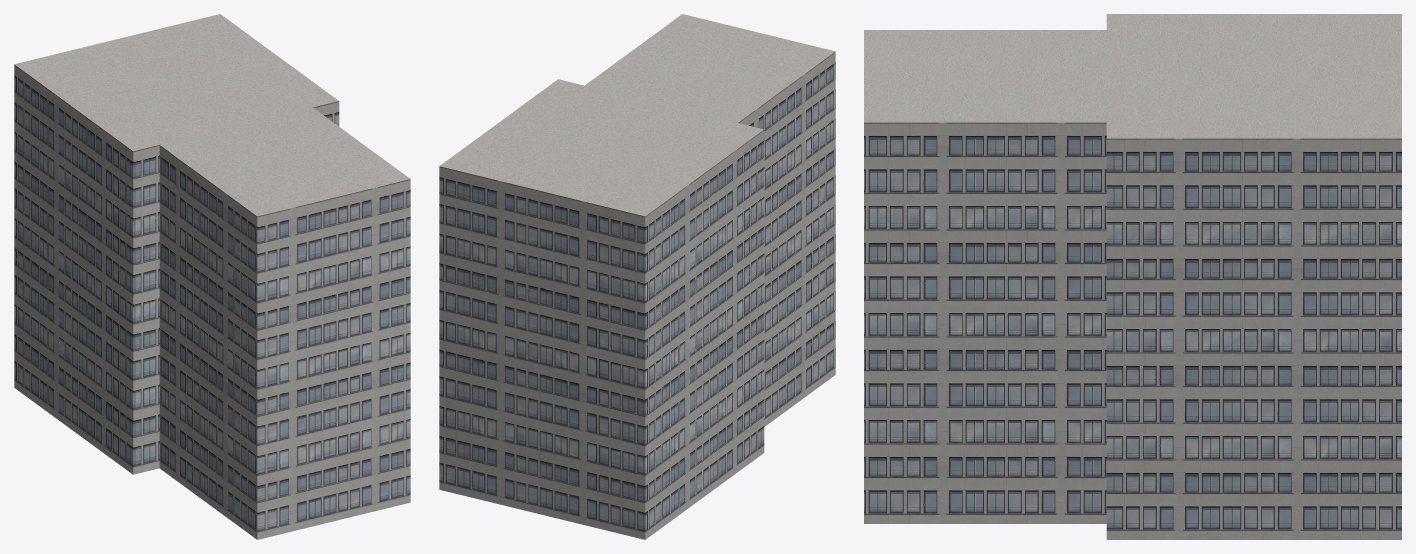
File: building_004_002.glb
The picture shows the model from 3 angles, left to right: view 1: azimuth 30°, elevation 25°; view 2: azimuth 150°, elevation 25°; view 3: azimuth 270°, elevation 25°; orthographic projection. The views are drawn at different scales.
Visible parts, largest first — view 1: building_004.002; view 2: building_004.002; view 3: building_004.002.
Part boxes in pixels (x1,y1,x2,y2): building_004.002: [14, 14, 410, 539]; building_004.002: [439, 14, 835, 539]; building_004.002: [864, 14, 1401, 539].
Size of the model in its own units: 1000 by 1500 by 1822.
2 materials, 2 textured.
